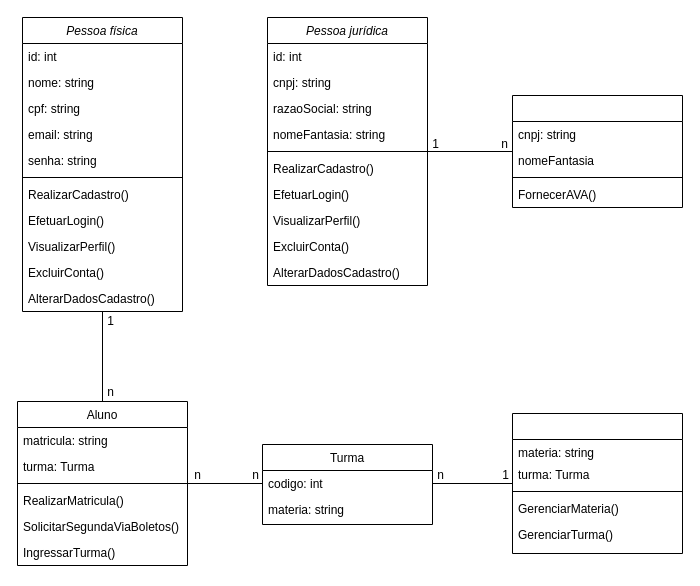
The diagram is 700 pixels wide and 586 high, and some of its shapes have lost their labels. The box of each missing label's shape, as (x1, y1, x2, y2) in pixels:
Fornecedor: (512, 94, 682, 208)
Professor: (512, 412, 682, 554)
